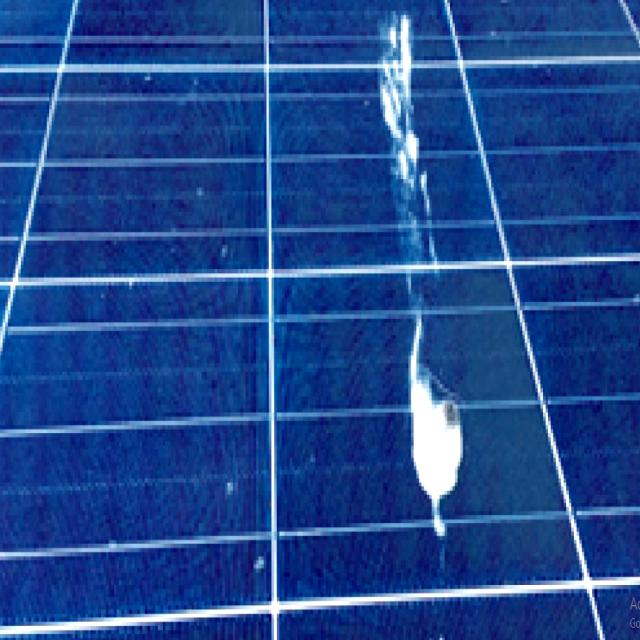bird: (373, 1, 467, 562)
